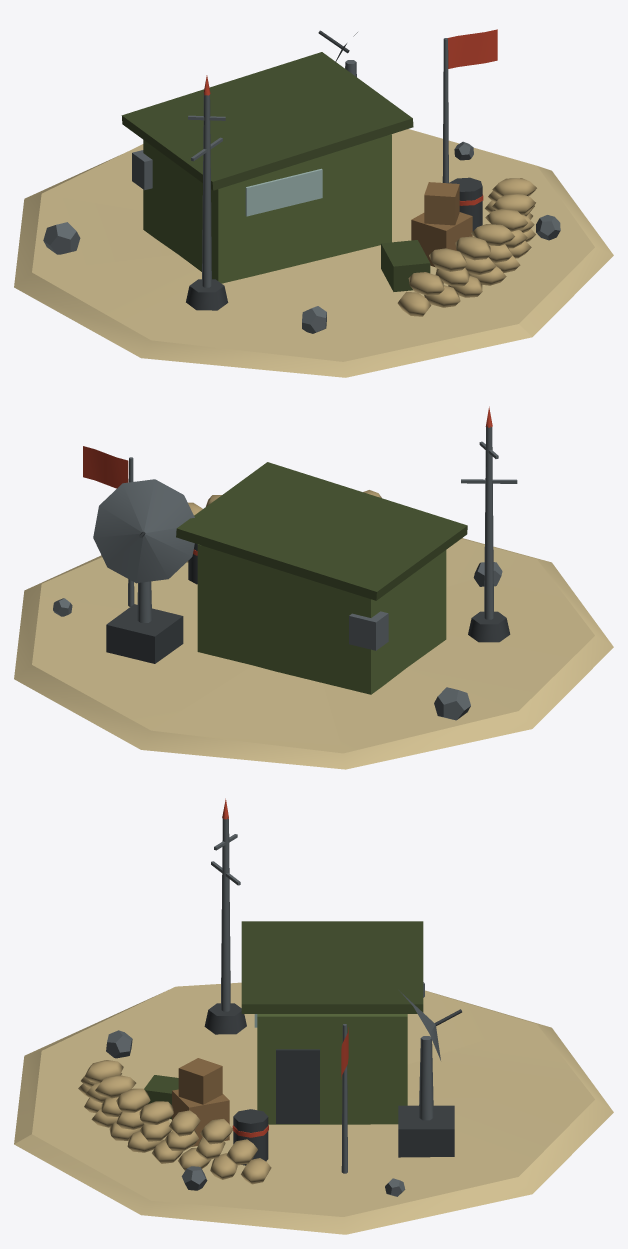
The model's file is command-post.glb.
The picture shows the model from 3 angles, top to bottom: view 1: azimuth 30°, elevation 25°; view 2: azimuth 150°, elevation 25°; view 3: azimuth 270°, elevation 25°; orthographic projection.
Parts seen in each view (by area): view 1: ground_pad, hut_body, hut_roof, hut_window, crate_side, antenna_mast, crate_big, flag, crate_small, antenna_footing, barrel, rock_1 (+12 smaller); view 2: ground_pad, hut_body, hut_roof, radar_dish, radar_base, antenna_mast, flag, hut_vent, antenna_footing, rock_1, radar_mast; view 3: ground_pad, hut_roof, hut_body, hut_door, radar_base, crate_small, antenna_mast, crate_big, barrel, radar_mast, antenna_footing, crate_side (+7 smaller).
Boxes of the visible parts, x1,y1,x2,y2 form: ground_pad: (14,129,613,377); hut_body: (143,134,391,283); hut_roof: (121,52,413,190); hut_window: (245,168,322,216); crate_side: (381,240,430,291); antenna_mast: (202,93,211,287); crate_big: (411,212,472,267); flag: (447,29,497,68); crate_small: (424,182,459,225); antenna_footing: (186,279,228,310); barrel: (449,177,482,231); rock_1: (43,222,80,254); ground_pad: (14,538,613,769); hut_body: (197,544,446,694); hut_roof: (176,462,467,600); radar_dish: (93,479,194,583); radar_base: (106,604,183,663); antenna_mast: (484,426,493,619); flag: (83,446,128,488); hut_vent: (349,611,388,650); antenna_footing: (468,611,510,642); rock_1: (434,687,470,720); radar_mast: (137,581,152,622); ground_pad: (14,982,613,1234); hut_roof: (241,921,423,1013); hut_body: (257,1014,407,1124); hut_door: (276,1049,319,1123); radar_base: (398,1105,454,1157); crate_small: (178,1058,222,1104); antenna_mast: (221,816,230,1011); crate_big: (172,1089,229,1146); barrel: (233,1109,268,1165); radar_mast: (419,1036,433,1120); antenna_footing: (204,1003,246,1034); crate_side: (144,1075,178,1119).
Size of the model in its own units: 9.64 by 4.21 by 9.58.
